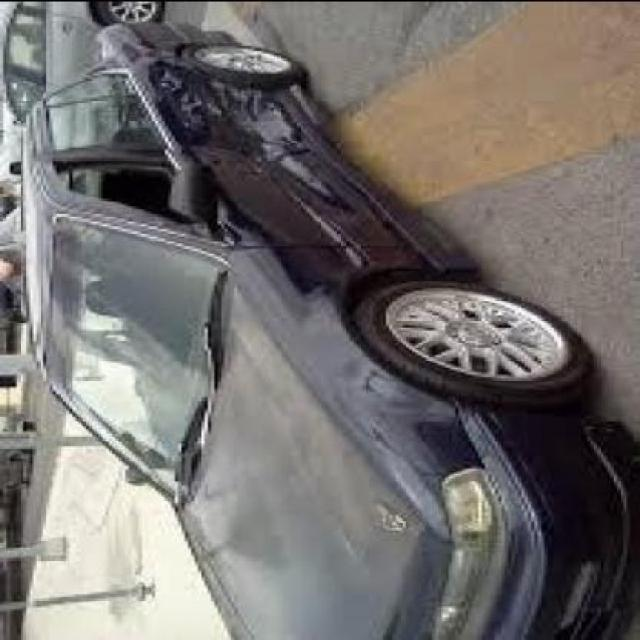damage: (136, 51, 361, 205)
